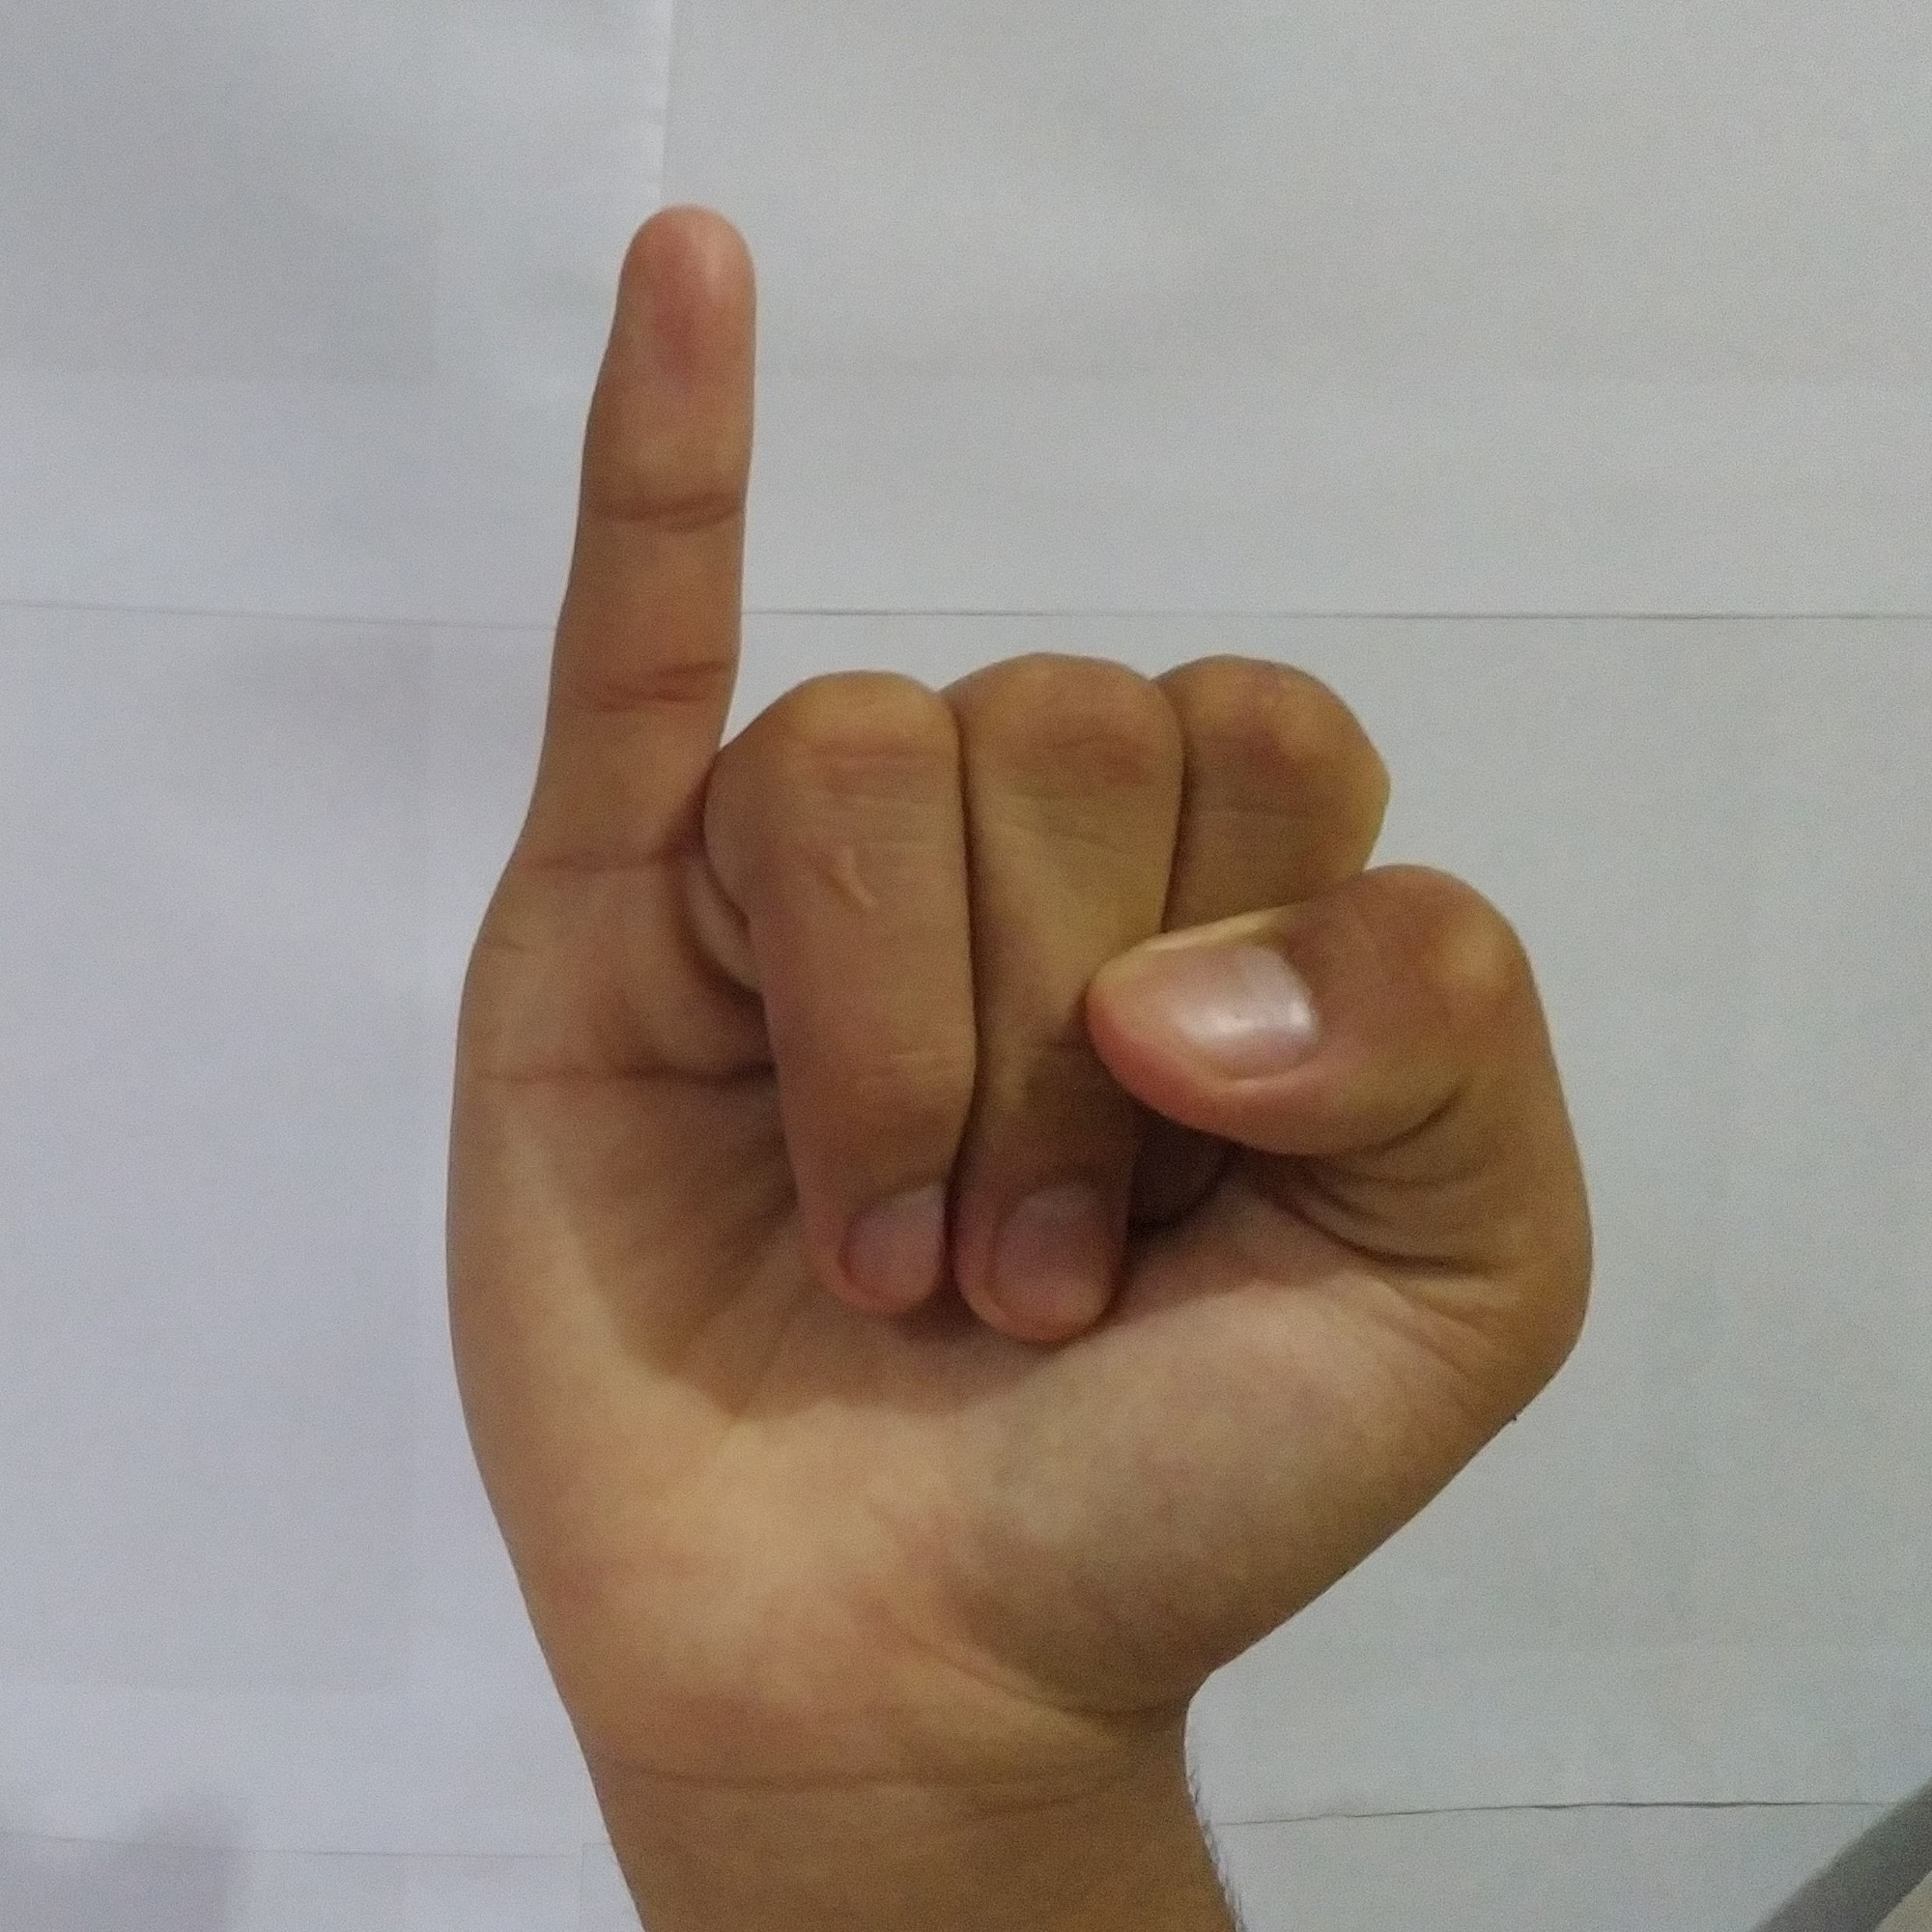I: (409, 175, 1622, 1721)
